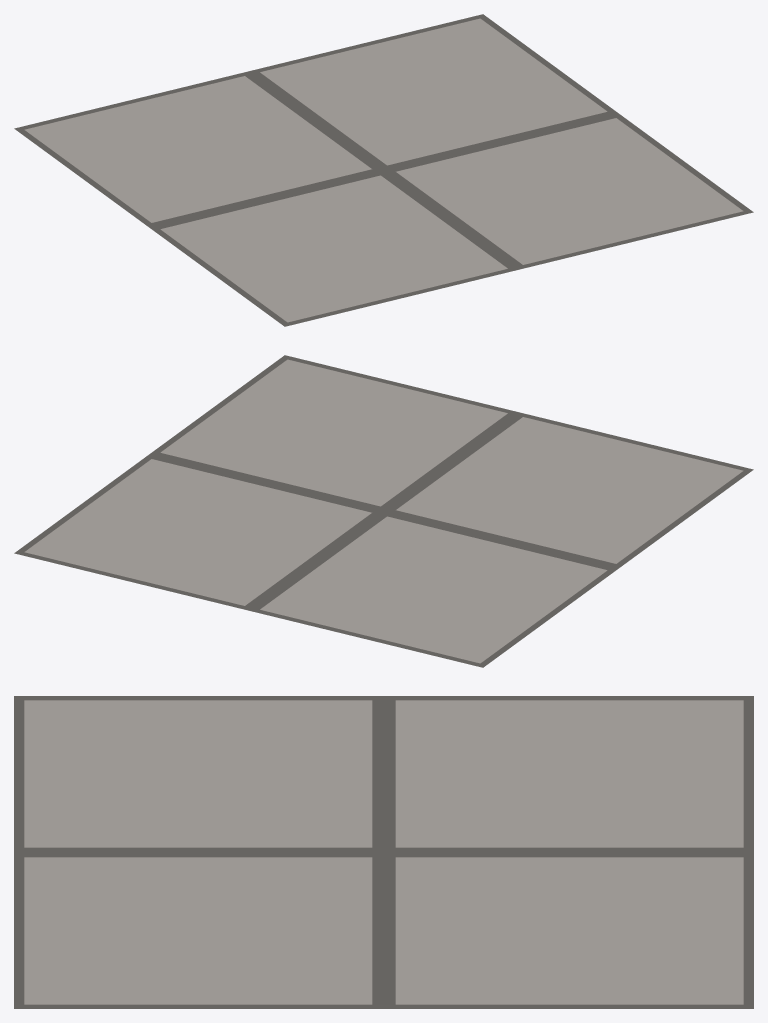
File: AI_Env_Floor_07_Blank.fbx
3 views of the same model, one above another, from view 1: azimuth 30°, elevation 25°; view 2: azimuth 150°, elevation 25°; view 3: azimuth 270°, elevation 25° (orthographic). The views are drawn at different scales.
Parts seen in each view (by area): view 1: AI_Env_Floor_07_Blank; view 2: AI_Env_Floor_07_Blank; view 3: AI_Env_Floor_07_Blank.
Part boxes in pixels (x1,y1,x2,y2): AI_Env_Floor_07_Blank: [14, 14, 753, 326]; AI_Env_Floor_07_Blank: [14, 355, 753, 667]; AI_Env_Floor_07_Blank: [14, 696, 753, 1008].
Size of the model in its own units: 5 by 0 by 5.
